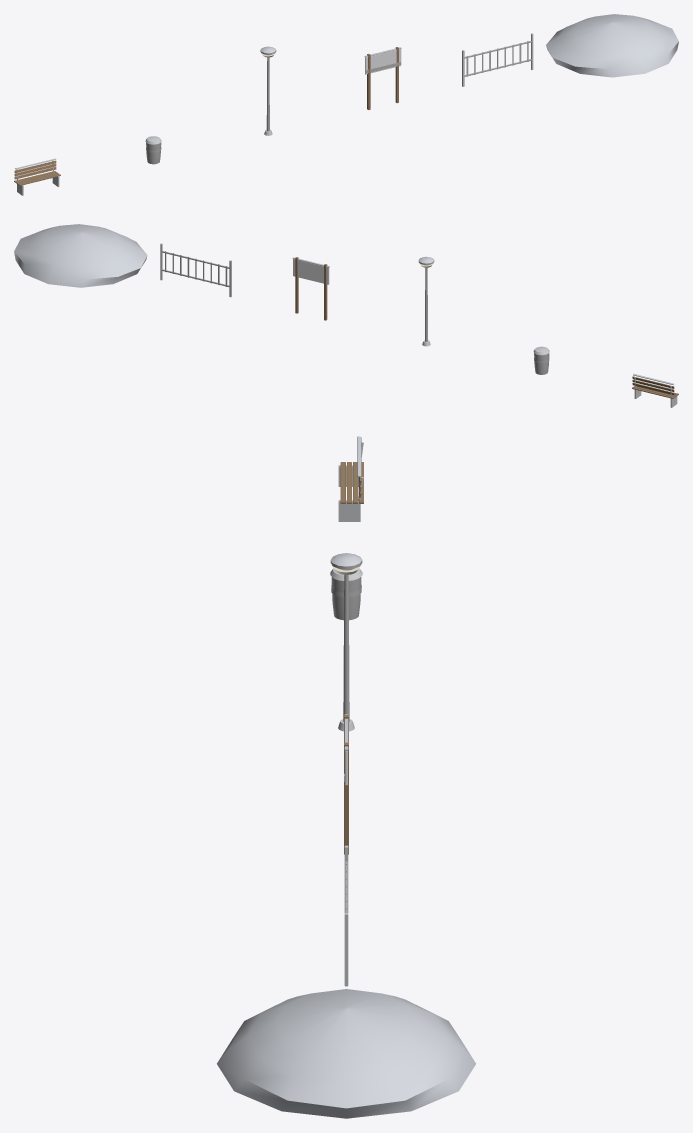
Rendered from ResortProps.fbx.
3 views of the same model, one above another, from view 1: azimuth 30°, elevation 25°; view 2: azimuth 150°, elevation 25°; view 3: azimuth 270°, elevation 25° (orthographic). The views are drawn at different scales.
Visible parts, largest first — view 1: Pile, Sign, Bench, Fence, Lamp, Bin; view 2: Pile, Sign, Fence, Bench, Bin, Lamp; view 3: Pile, Bench, Lamp, Bin.
Part boxes in pixels (x1=…): Pile: x1=546, y1=14, x2=678, y2=77; Sign: x1=364, y1=47, x2=401, y2=109; Bench: x1=14, y1=158, x2=60, y2=195; Fence: x1=462, y1=33, x2=533, y2=86; Lamp: x1=260, y1=46, x2=276, y2=135; Bin: x1=145, y1=136, x2=161, y2=164; Pile: x1=14, y1=224, x2=147, y2=287; Sign: x1=292, y1=257, x2=329, y2=320; Fence: x1=160, y1=243, x2=231, y2=297; Bench: x1=632, y1=374, x2=678, y2=407; Bin: x1=533, y1=346, x2=549, y2=374; Lamp: x1=418, y1=256, x2=434, y2=346; Pile: x1=217, y1=989, x2=475, y2=1118; Bench: x1=338, y1=436, x2=363, y2=521; Lamp: x1=330, y1=553, x2=362, y2=731; Bin: x1=330, y1=568, x2=362, y2=620.
Size of the model in its own units: 28.51 by 3.57 by 4.9.
